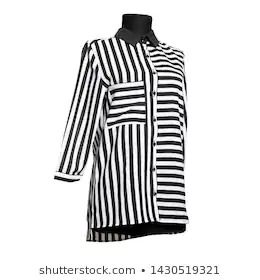C_blouse: (59, 30, 204, 241)
